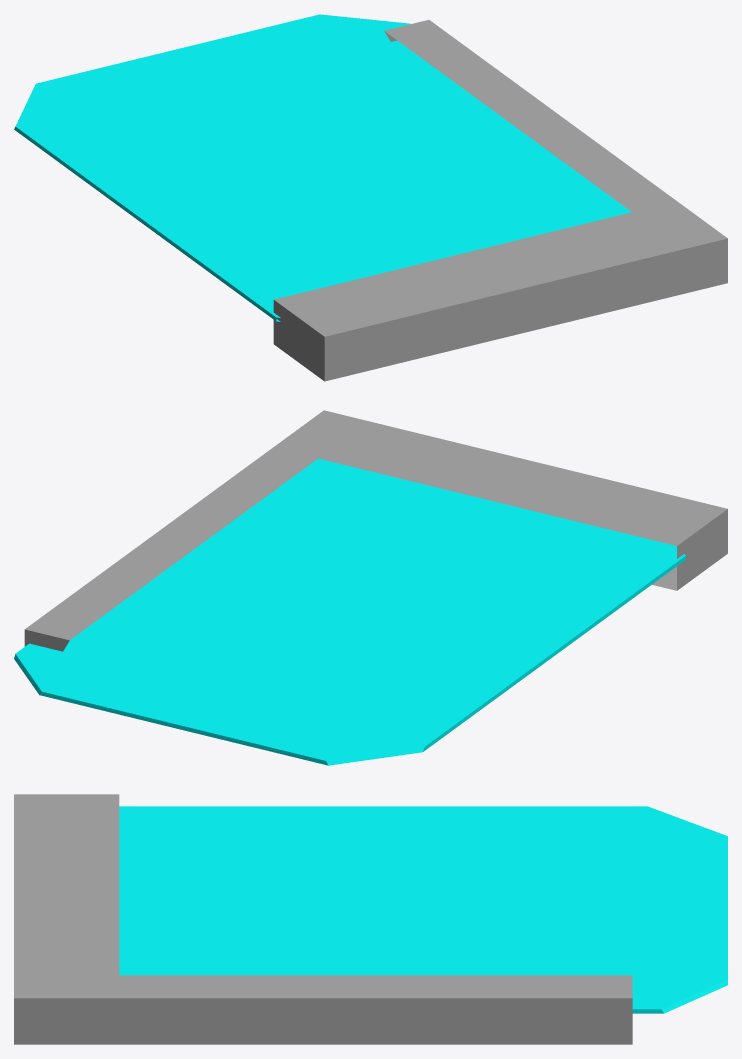
File: Keycard_Def.fbx
The picture shows the model from 3 angles, top to bottom: view 1: azimuth 30°, elevation 25°; view 2: azimuth 150°, elevation 25°; view 3: azimuth 270°, elevation 25°; orthographic projection. The views are drawn at different scales.
Parts seen in each view (by area): view 1: pCube3; view 2: pCube3; view 3: pCube3.
Boxes of the visible parts, box(x1,y1,x2,y2) form: pCube3: box(14, 14, 727, 381); pCube3: box(14, 410, 727, 765); pCube3: box(14, 794, 727, 1044).
Bounding box in the file's own units: 0.0425 × 0.00447 × 0.0625.
